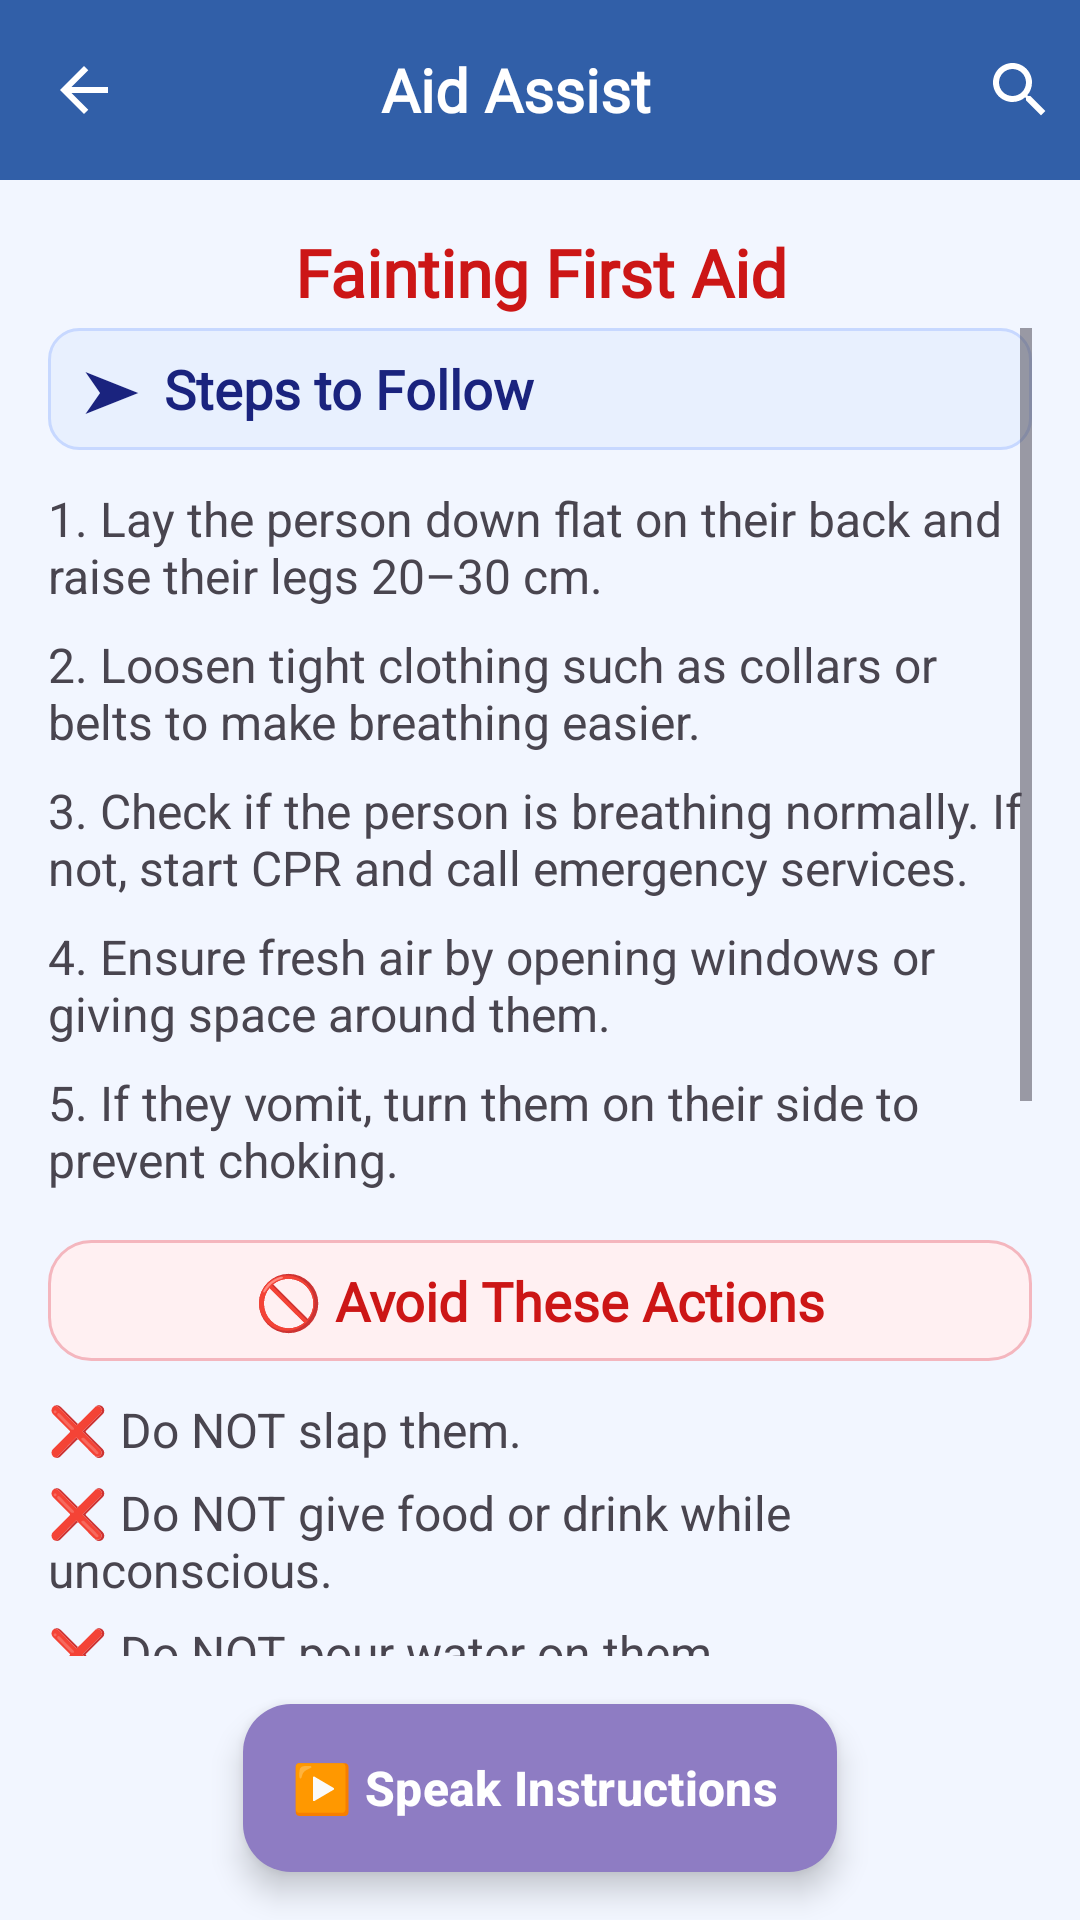

Icon click points for this 1080px×1920px phone screenshot, format (x=x, y=y):
Back: (x=84, y=90)
Toggle Search: (x=1019, y=89)
